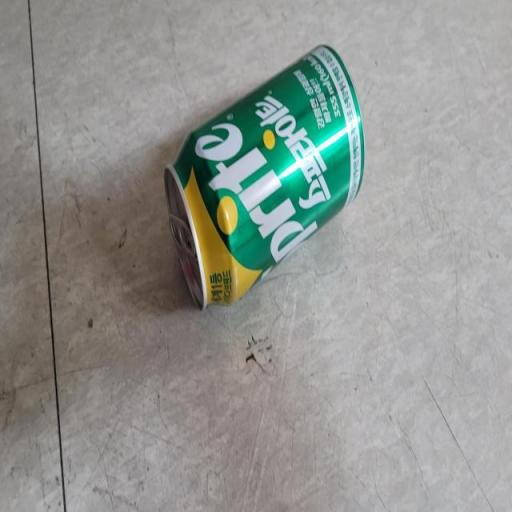metal: (154, 32, 372, 326)
